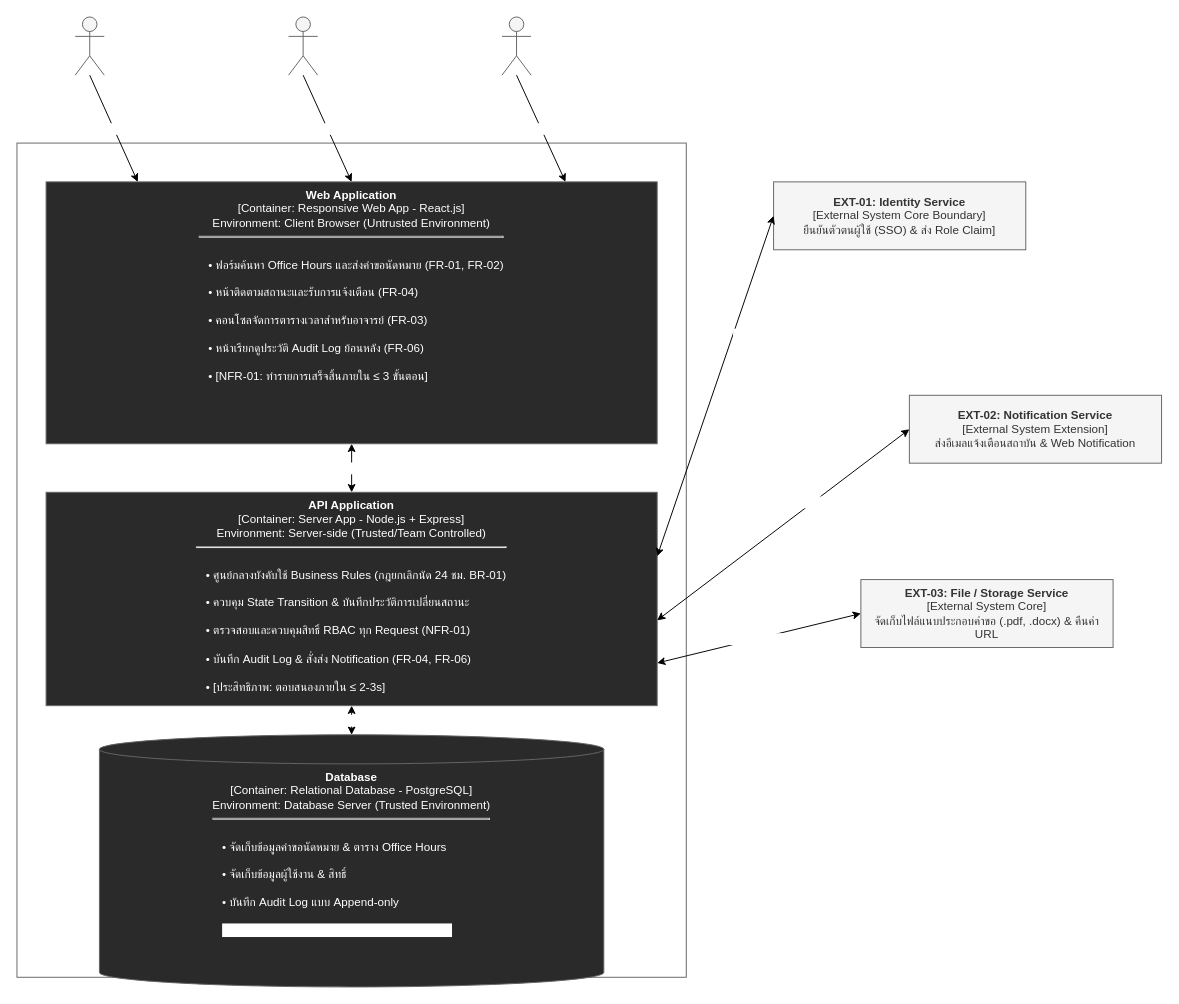
Some shapes in this 1179 by 1004 pixel diagram are drawn without their labels. Each missing label, with the centre of its shape:
"ACT-01 นักศึกษา (Student)" belongs at (89,45).
"ACT-02 อาจารย์ที่ปรึกษา (Advisor)" belongs at (303,45).
"ACT-03 ผู้ดูแลระบบ (System Admin)" belongs at (516,45).
